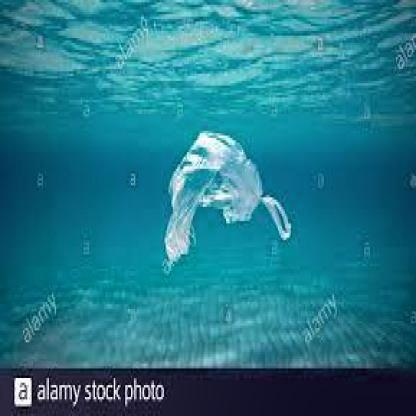pbag: (162, 131, 292, 268)
